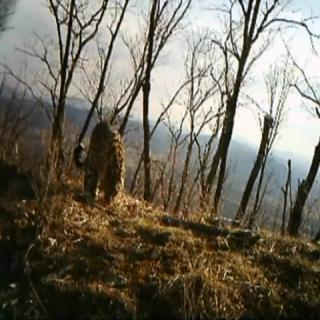Leopard: (67, 91, 133, 202)
